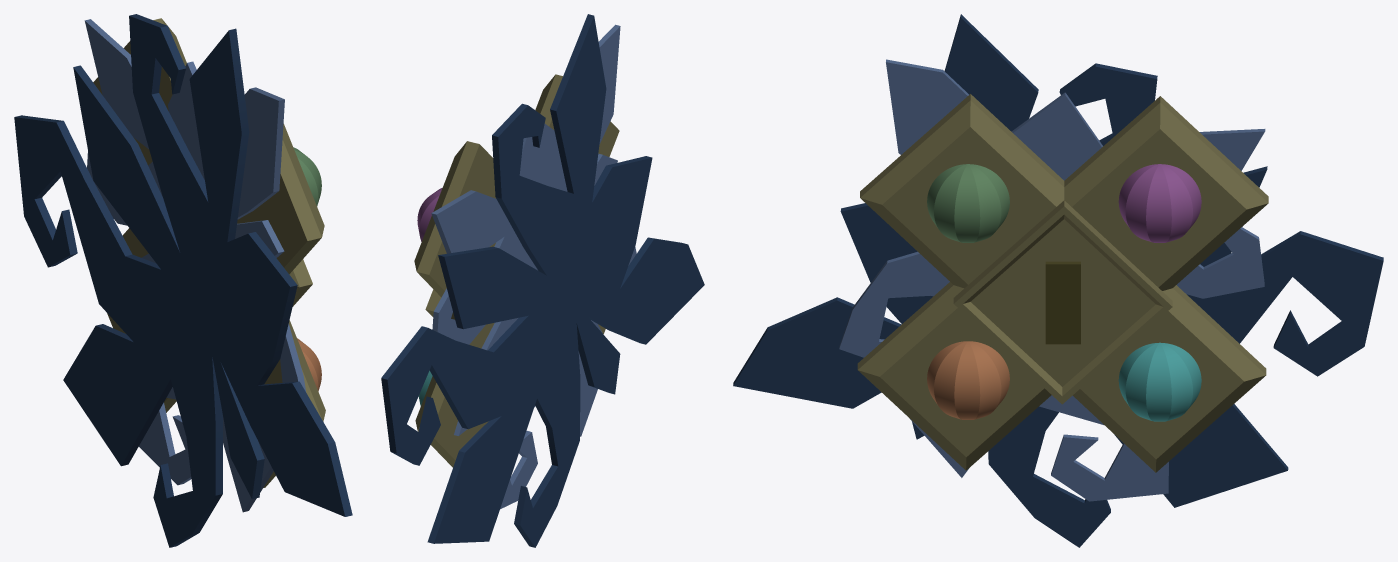
The model's file is lock.fbx.
3 views of the same model, side by side, from view 1: azimuth 30°, elevation 25°; view 2: azimuth 150°, elevation 25°; view 3: azimuth 270°, elevation 25° (orthographic). The views are drawn at different scales.
Parts seen in each view (by area): view 1: lock; view 2: lock; view 3: lock.
Part boxes in pixels (bbox=[...]): lock: bbox=[14, 14, 352, 547]; lock: bbox=[381, 14, 704, 547]; lock: bbox=[733, 14, 1383, 547].
Size of the model in its own units: 58.46 by 331 by 369.
